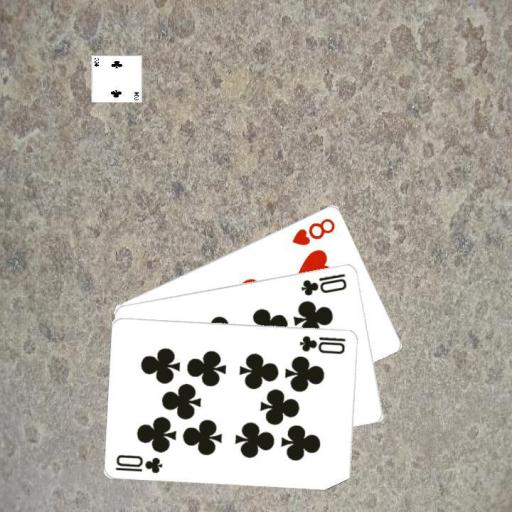10C: (298, 270, 348, 297), (113, 451, 165, 475), (297, 331, 348, 355)
8H: (289, 215, 337, 247)
